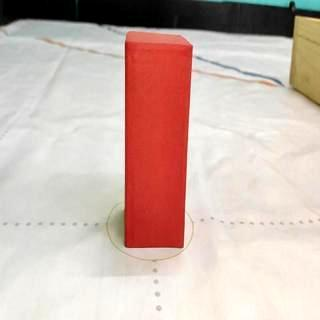redbox: (124, 32, 192, 248)
